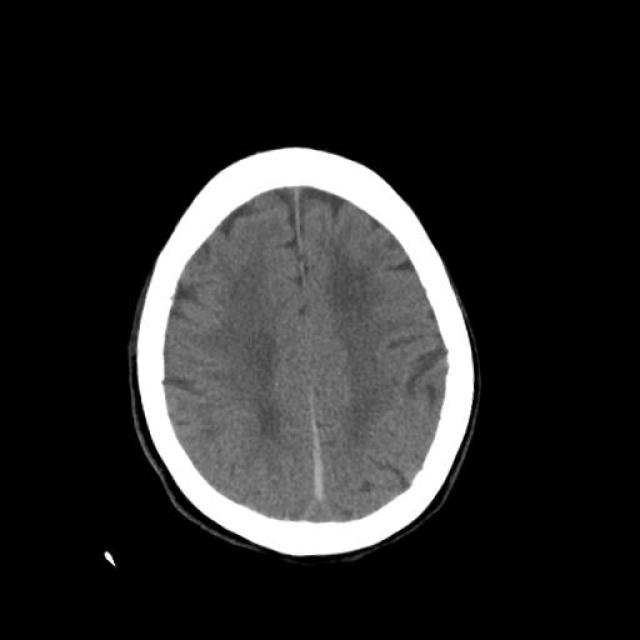Subdural: (269, 388, 345, 534)
